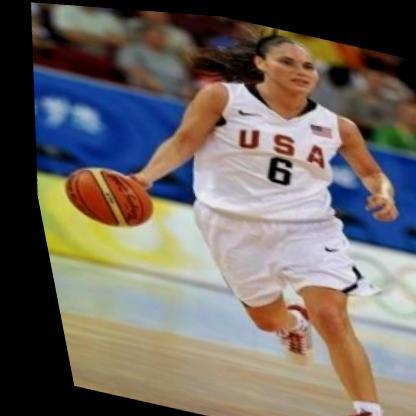basketball: (49, 154, 153, 234)
